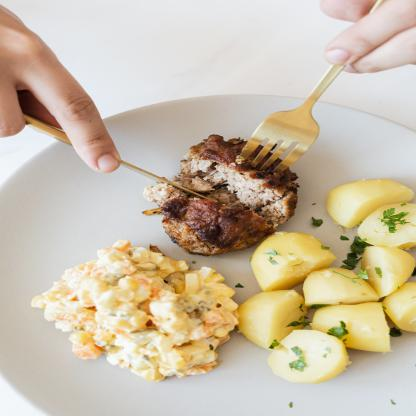Carne: (183, 154, 314, 214), (174, 198, 265, 253)
